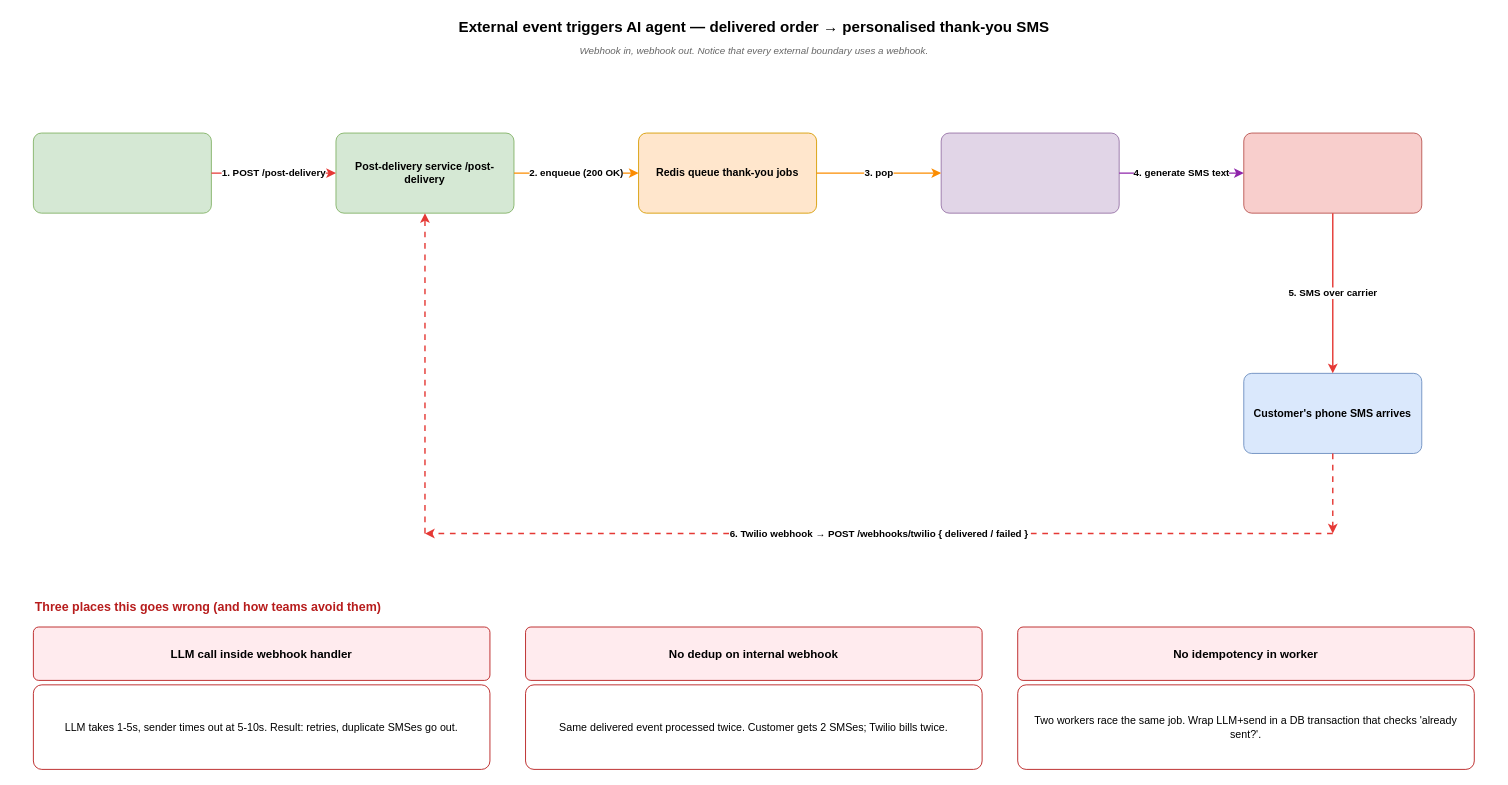
Image size: 1508x785. Some labels were removed from this diagram. The shapes that lost their labels are listed below. From the top down, each one's box as (x1, y1, x2, y2) in pixels, then its label:
(32, 132, 211, 213): Order service (LiveOrder)
(940, 132, 1119, 213): Agent worker LLM call (3-5s)
(1243, 132, 1422, 213): Twilio API SMS send
